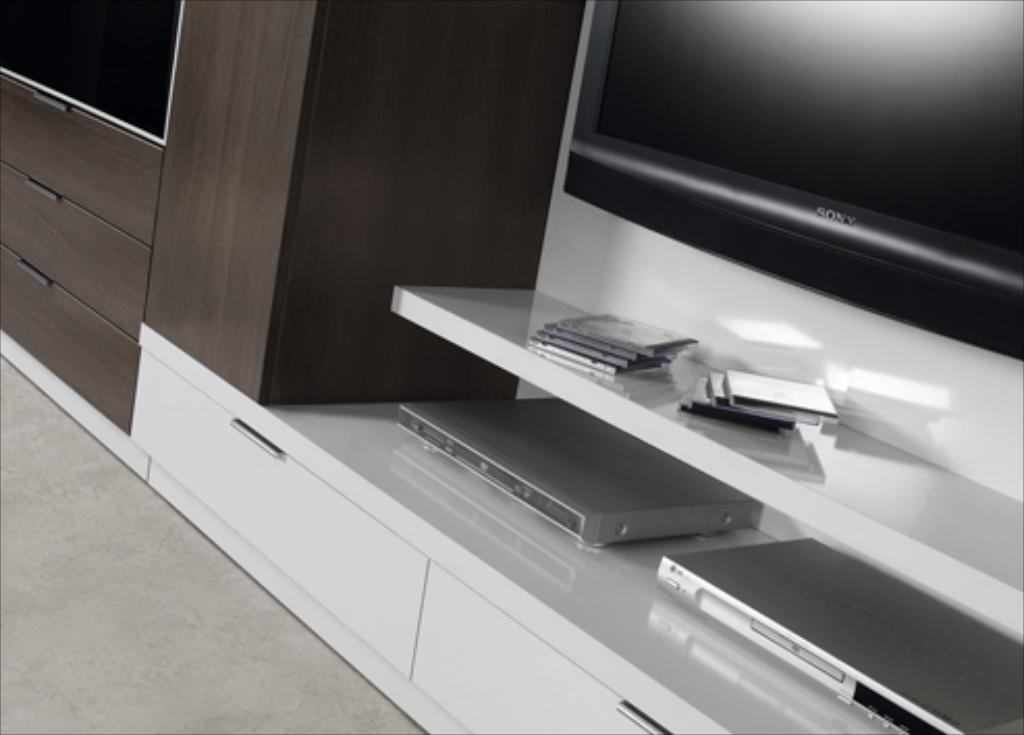cabinet door: (143, 395, 376, 507), (3, 102, 150, 185), (2, 189, 147, 273), (8, 287, 140, 370)
handle: (223, 414, 285, 465), (605, 705, 694, 735), (14, 248, 58, 294), (23, 176, 68, 210), (28, 87, 74, 116)
